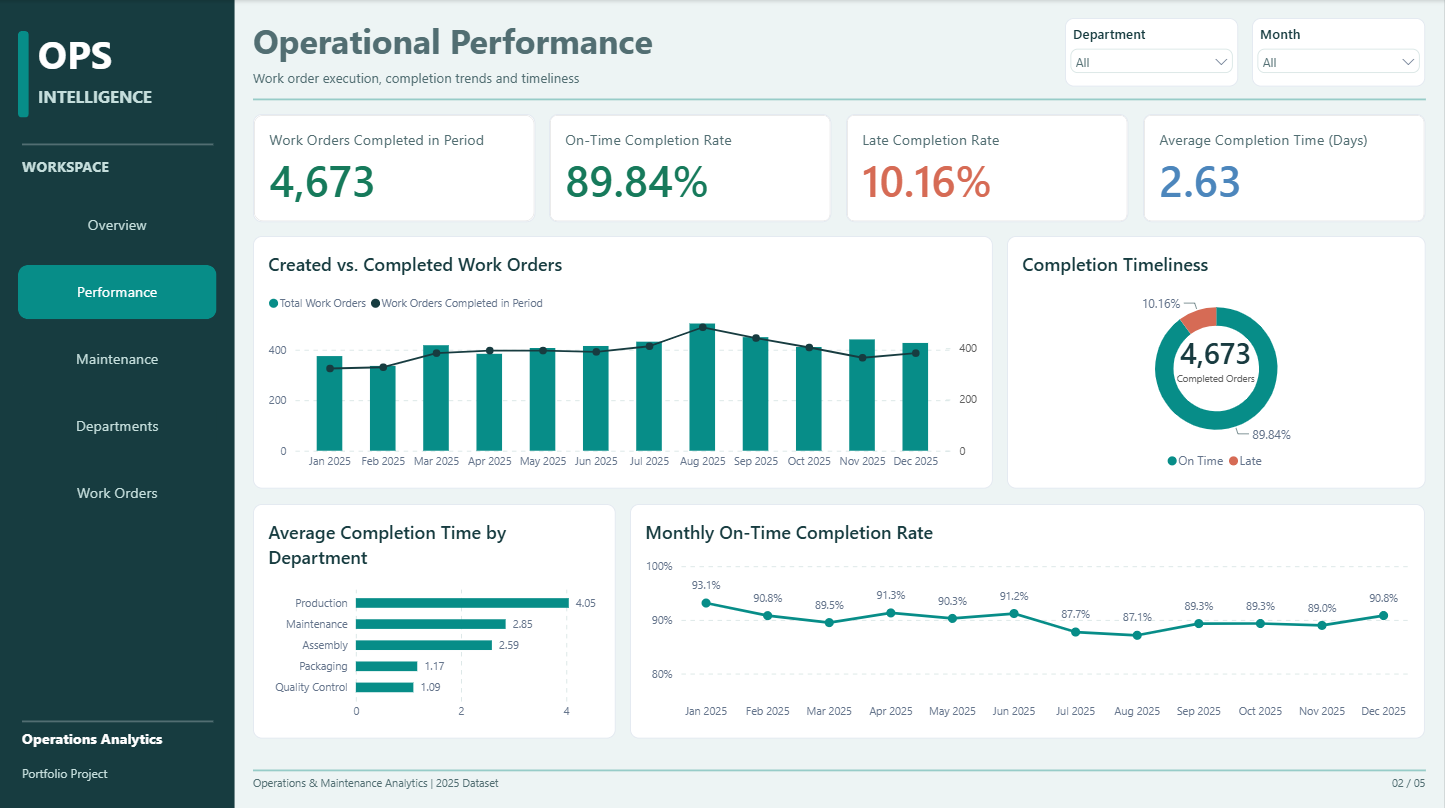

What the dashboard file says about the page in this screenshot:
{"tool":"powerbi","page":{"name":"02 - Operational Performance","canvas":[1600,900],"ordinal":1},"visuals":[{"type":"shape","title":"shpSidebarBackground","box":[0,0,260,900],"z":0},{"type":"shape","title":"shpBrandAccent","box":[20,34,12,96],"z":1000},{"type":"textbox","title":"txtBrandTitle","box":[42,30,194,64],"z":2000},{"type":"textbox","title":"txtBrandSubtitle","box":[42,94,194,36],"z":3000},{"type":"shape","title":"shpSidebarDividerTop","box":[24,154,212,12],"z":4000},{"type":"textbox","title":"txtWorkspaceLabel","box":[24,174,212,36],"z":5000},{"type":"shape","title":"shpSidebarDividerBottom","box":[24,794,212,12],"z":6000},{"type":"textbox","title":"txtSidebarFooterTitle","box":[24,808,212,40],"z":7000},{"type":"textbox","title":"txtSidebarFooterSubtitle","box":[24,848,212,36],"z":8000},{"type":"textbox","title":"txtPageTitle","box":[280,20,880,60],"z":9000},{"type":"textbox","title":"txtPageSubtitle","box":[280.6,76.4,640.3,31.9],"z":10000},{"type":"shape","title":"shpHeaderDivider","box":[280,104,1300,12],"z":11000},{"type":"shape","title":"shpFooterDivider","box":[280,848,1300,12],"z":12000},{"type":"textbox","title":"txtFooterDescription","box":[280,858,1060,32],"z":13000},{"type":"textbox","title":"txtPageNumber","box":[1400,858,180,32],"z":14000},{"type":"actionButton","title":"btnNavWorkOrders","box":[20,516,220,60],"z":15000},{"type":"actionButton","title":"btnNavDepartments","box":[20,442,220,60],"z":16000},{"type":"actionButton","title":"btnNavMaintenance","box":[20,368,220,60],"z":17000},{"type":"actionButton","title":"btnNavPerformance","box":[20,294,220,60],"z":18000},{"type":"actionButton","title":"btnNavOverview","box":[20,220,220,60],"z":19000},{"type":"slicer","title":"slcDepartment","fields":{"Values":["Departments.Department"]},"box":[1180,20,192,76],"z":20000},{"type":"slicer","title":"slcMonth","fields":{"Values":["Calendar.Month Year"]},"box":[1388,20,192,76],"z":21000},{"type":"cardVisual","title":"crdCompletedWorkOrders","fields":{"Data":["_Measures.Work Orders Completed in Period"]},"box":[280,126,313,120],"z":22000},{"type":"cardVisual","title":"crdOnTimeRate","fields":{"Data":["_Measures.On-Time Completion Rate"]},"box":[609,126,313,120],"z":23000},{"type":"cardVisual","title":"crdLateRate","fields":{"Data":["_Measures.Late Completion Rate"]},"box":[938,126.4,313,120],"z":24000},{"type":"cardVisual","title":"crdAvgCompletionTime","fields":{"Data":["_Measures.Average Completion Time"]},"box":[1267,126,313,120],"z":25000},{"type":"lineClusteredColumnComboChart","title":"Created vs. Completed Work Orders","fields":{"Category":["Calendar.Month Year"],"Y":["_Measures.Total Work Orders"],"Y2":["_Measures.Work Orders Completed in Period"]},"box":[280,262,820,280],"z":26000},{"type":"donutChart","title":"Completion Timeliness","fields":{"Category":["Completion Timeliness Categories.Timeliness"],"Y":["Completion Timeliness Categories.Completion Timeliness Count"]},"box":[1116,262,464,280],"z":27000,"group":"g1"},{"type":"clusteredBarChart","title":"Average Completion Time by Department","fields":{"Category":["Departments.Department"],"Y":["_Measures.Average Completion Time"]},"box":[280.6,558.3,402,260],"z":27000},{"type":"lineChart","title":"Monthly On-Time Completion Rate","fields":{"Category":["Calendar.Month Year"],"Y":["_Measures.On-Time Completion Rate"]},"box":[698.6,558.3,880.6,259.7],"z":28000},{"type":"group","id":"g1","title":"Group 1","box":[1116,262,464,280],"z":29000},{"type":"cardVisual","fields":{"Data":["_Measures.Work Orders Completed in Period"]},"box":[1282.9,365.5,128.1,67.3],"z":29001,"group":"g1"}]}

Visuals, with their boxes in screenshot pixels (x1, y1, x2, y2), scaled from the page's 1600x900 canvas onto the 1445x808 screenshot:
"shpSidebarBackground" shape: bbox=(0, 0, 235, 807)
"shpBrandAccent" shape: bbox=(18, 31, 29, 117)
"txtBrandTitle" textbox: bbox=(38, 27, 213, 84)
"txtBrandSubtitle" textbox: bbox=(38, 84, 213, 117)
"shpSidebarDividerTop" shape: bbox=(22, 138, 213, 149)
"txtWorkspaceLabel" textbox: bbox=(22, 156, 213, 189)
"shpSidebarDividerBottom" shape: bbox=(22, 713, 213, 724)
"txtSidebarFooterTitle" textbox: bbox=(22, 725, 213, 761)
"txtSidebarFooterSubtitle" textbox: bbox=(22, 761, 213, 794)
"txtPageTitle" textbox: bbox=(253, 18, 1048, 72)
"txtPageSubtitle" textbox: bbox=(253, 69, 832, 97)
"shpHeaderDivider" shape: bbox=(253, 93, 1427, 104)
"shpFooterDivider" shape: bbox=(253, 761, 1427, 772)
"txtFooterDescription" textbox: bbox=(253, 770, 1210, 799)
"txtPageNumber" textbox: bbox=(1264, 770, 1427, 799)
"btnNavWorkOrders" actionButton: bbox=(18, 463, 217, 517)
"btnNavDepartments" actionButton: bbox=(18, 397, 217, 451)
"btnNavMaintenance" actionButton: bbox=(18, 330, 217, 384)
"btnNavPerformance" actionButton: bbox=(18, 264, 217, 318)
"btnNavOverview" actionButton: bbox=(18, 198, 217, 251)
"slcDepartment" slicer: bbox=(1066, 18, 1239, 86)
"slcMonth" slicer: bbox=(1254, 18, 1427, 86)
"crdCompletedWorkOrders" cardVisual: bbox=(253, 113, 536, 221)
"crdOnTimeRate" cardVisual: bbox=(550, 113, 833, 221)
"crdLateRate" cardVisual: bbox=(847, 113, 1130, 221)
"crdAvgCompletionTime" cardVisual: bbox=(1144, 113, 1427, 221)
"Created vs. Completed Work Orders" lineClusteredColumnComboChart: bbox=(253, 235, 993, 487)
"Completion Timeliness" donutChart: bbox=(1008, 235, 1427, 487)
"Average Completion Time by Department" clusteredBarChart: bbox=(253, 501, 616, 735)
"Monthly On-Time Completion Rate" lineChart: bbox=(631, 501, 1426, 734)
"Group 1" group: bbox=(1008, 235, 1427, 487)
cardVisual - _Measures.Work Orders Completed in Period: bbox=(1159, 328, 1274, 389)
